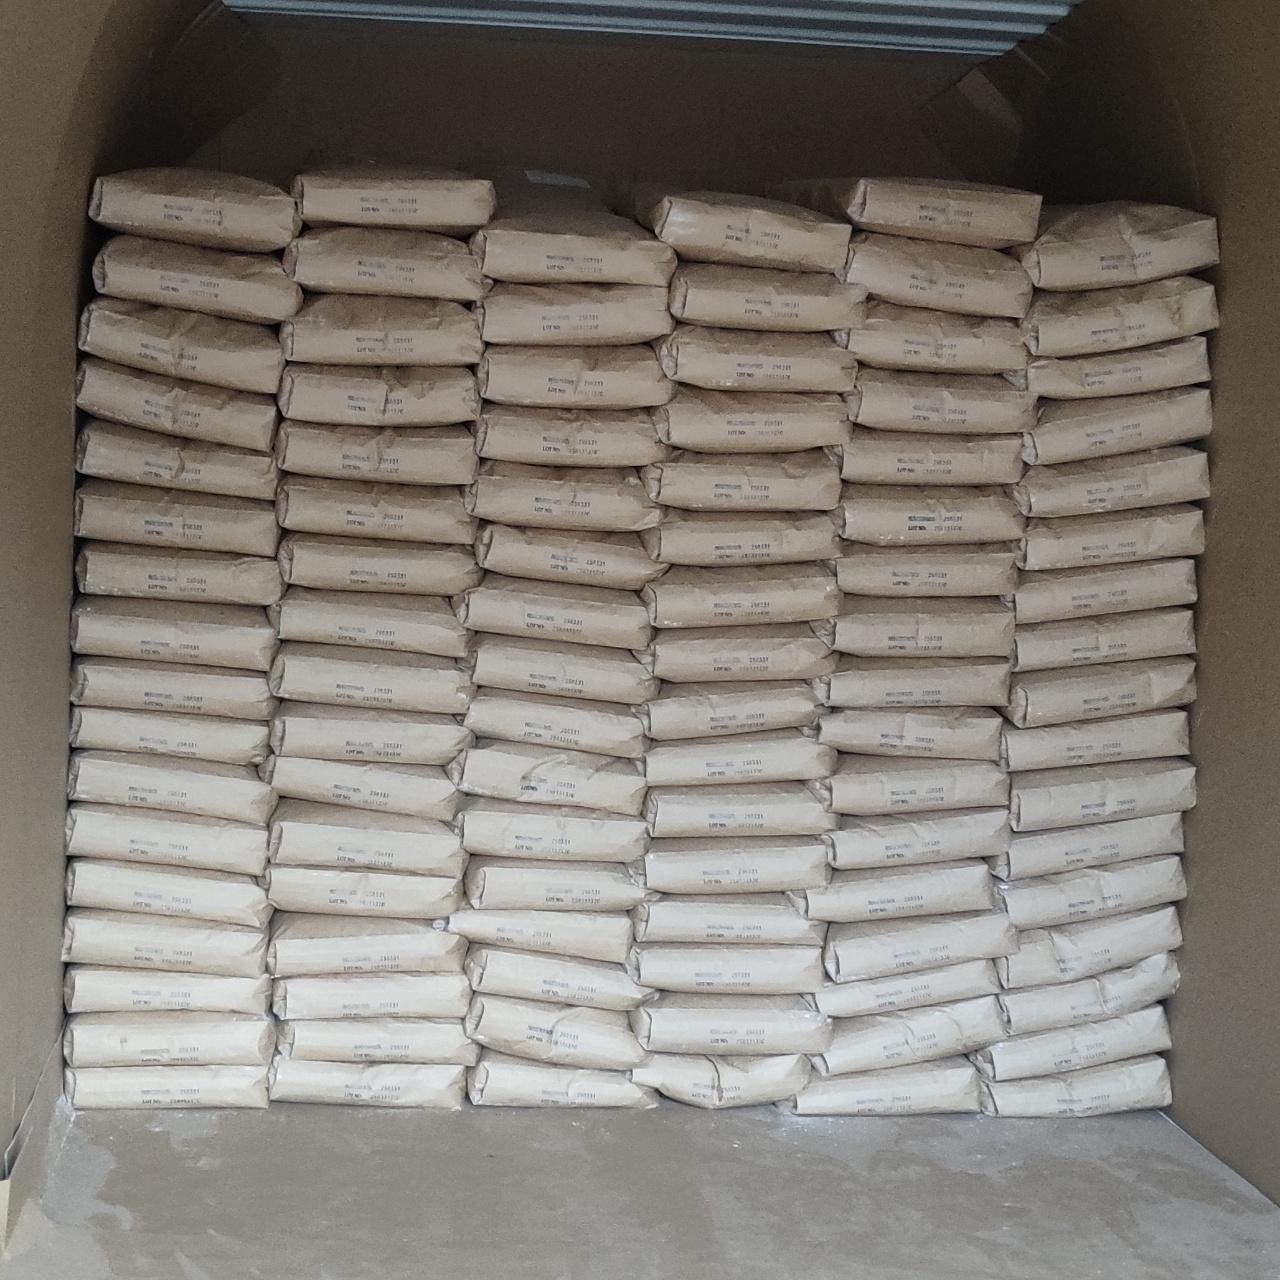sack: (632, 184, 851, 278), (79, 297, 284, 392), (75, 356, 275, 452), (772, 177, 1041, 248), (92, 236, 302, 323), (89, 168, 301, 252), (1016, 202, 1218, 290), (472, 201, 675, 285), (75, 419, 276, 500), (283, 226, 493, 303), (810, 995, 1006, 1077), (1020, 276, 1217, 357), (845, 232, 1032, 317), (67, 750, 278, 825), (269, 798, 469, 877), (70, 596, 276, 672), (74, 479, 277, 556), (269, 641, 474, 715), (447, 739, 646, 815), (972, 1004, 1167, 1081), (996, 907, 1180, 988), (66, 802, 268, 875), (452, 575, 650, 649), (1022, 387, 1211, 464), (458, 632, 658, 704), (832, 299, 1026, 373), (62, 907, 267, 977), (998, 954, 1178, 1033), (66, 858, 272, 927), (270, 587, 472, 657), (280, 295, 480, 364), (997, 856, 1186, 929), (824, 911, 1018, 982), (464, 460, 660, 530), (669, 262, 867, 331), (1013, 446, 1208, 516), (276, 475, 476, 543), (76, 541, 283, 606), (292, 166, 494, 232), (466, 994, 643, 1069), (1010, 759, 1194, 831), (461, 688, 649, 758), (1006, 657, 1194, 727), (786, 860, 994, 923), (656, 325, 857, 390), (652, 386, 849, 452), (267, 912, 467, 977), (70, 656, 275, 719), (476, 404, 681, 467), (275, 420, 478, 483), (270, 701, 472, 764), (642, 565, 843, 628), (466, 945, 657, 1011), (1003, 338, 1209, 399), (475, 524, 668, 589), (453, 797, 648, 861), (845, 368, 1037, 433), (260, 757, 461, 819), (1001, 559, 1195, 623), (277, 364, 477, 426), (823, 422, 1023, 484), (990, 814, 1183, 878), (476, 282, 672, 344), (478, 345, 674, 407), (1020, 504, 1204, 570), (279, 534, 481, 594), (632, 993, 829, 1054), (629, 680, 829, 740), (811, 598, 1014, 657), (820, 808, 1012, 870), (775, 1058, 979, 1116), (1012, 607, 1194, 672), (64, 1011, 274, 1067), (468, 1049, 660, 1110), (829, 485, 1024, 545), (803, 959, 1003, 1017), (979, 1056, 1169, 1117), (628, 837, 829, 894), (1002, 710, 1188, 771), (70, 706, 269, 763), (641, 451, 840, 508), (633, 627, 839, 682), (810, 757, 1007, 813), (269, 1055, 467, 1110), (640, 512, 840, 566), (645, 782, 836, 838), (465, 857, 663, 911), (637, 731, 835, 785), (260, 865, 460, 918), (433, 909, 633, 961), (64, 964, 270, 1014), (631, 893, 826, 945), (804, 709, 1002, 760), (819, 545, 1020, 595), (625, 1054, 810, 1108), (812, 657, 1010, 707), (628, 945, 822, 992), (272, 973, 470, 1019), (277, 1020, 479, 1065), (65, 1065, 268, 1108)
